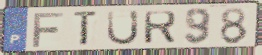8: (218, 6, 251, 45)
9: (183, 7, 211, 46)
F: (31, 11, 66, 48)
R: (142, 9, 178, 45)
T: (72, 10, 100, 48)
U: (105, 9, 141, 47)
